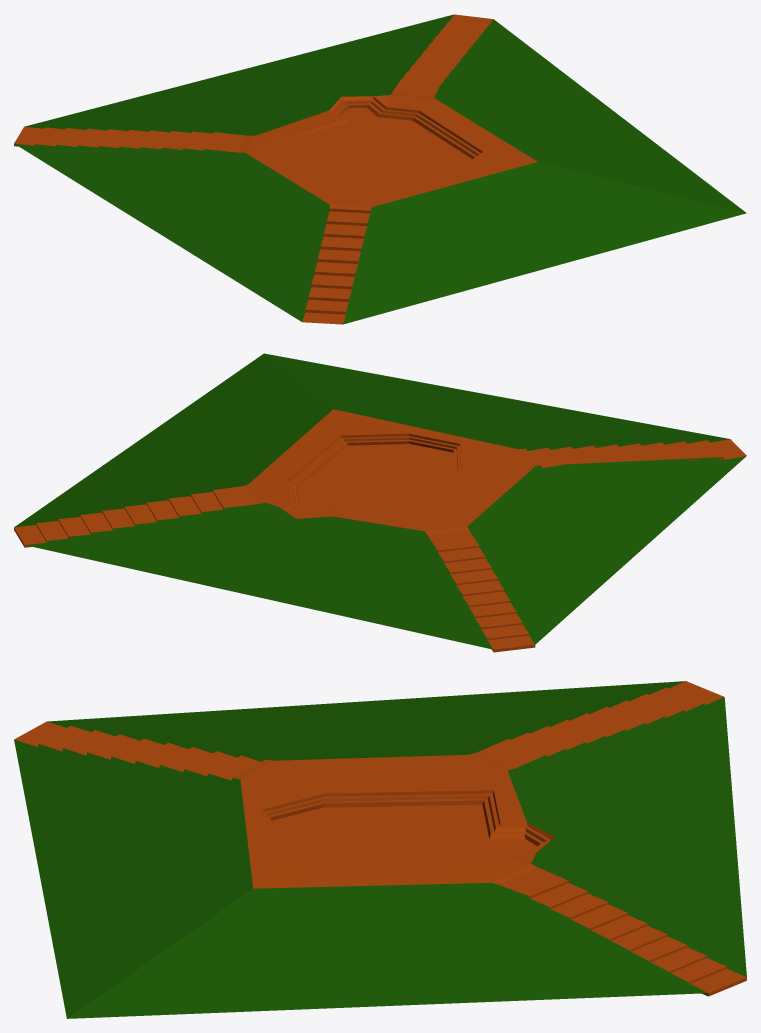
Rendered from Layout Taman Proklamator.fbx.
3 views of the same model, one above another, from view 1: azimuth 30°, elevation 25°; view 2: azimuth 150°, elevation 25°; view 3: azimuth 270°, elevation 25° (orthographic). The views are drawn at different scales.
Parts seen in each view (by area): view 1: Cube.001; view 2: Cube.001; view 3: Cube.001.
Boxes of the visible parts, x1,y1,x2,y2 form: Cube.001: (14,14,746,324); Cube.001: (14,353,746,652); Cube.001: (14,681,746,1018).
Bounding box in the file's own units: 18127 × 1175 × 17786.
